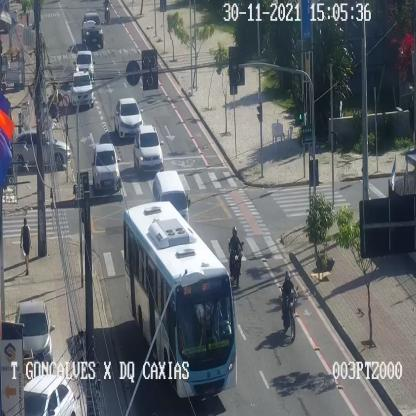bus: (123, 200, 236, 396)
car: (16, 302, 52, 372), (24, 374, 76, 416), (14, 130, 70, 168), (152, 171, 188, 228), (133, 125, 163, 173), (92, 143, 119, 189), (114, 97, 143, 138), (70, 70, 93, 107), (81, 12, 103, 48), (76, 50, 94, 80)
motorbike: (281, 270, 296, 340), (228, 226, 242, 286), (46, 84, 62, 121), (103, 0, 112, 25)
person: (20, 218, 31, 274)
